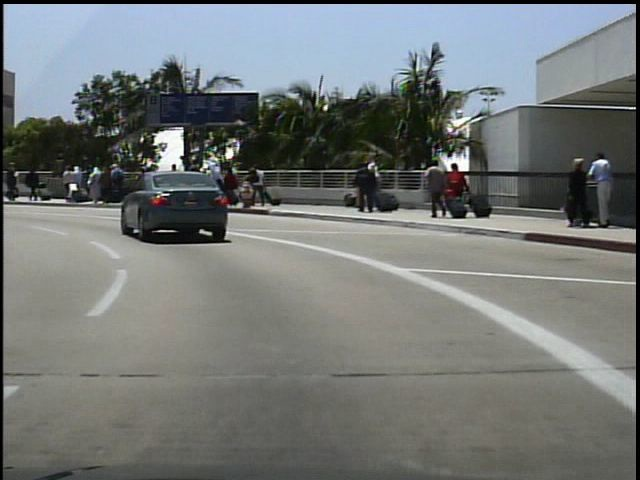person: (586, 149, 619, 229), (561, 155, 591, 232), (422, 159, 449, 223), (352, 158, 377, 216), (445, 161, 468, 217), (4, 157, 23, 202), (253, 161, 270, 208), (24, 165, 42, 203), (11, 165, 28, 203)
